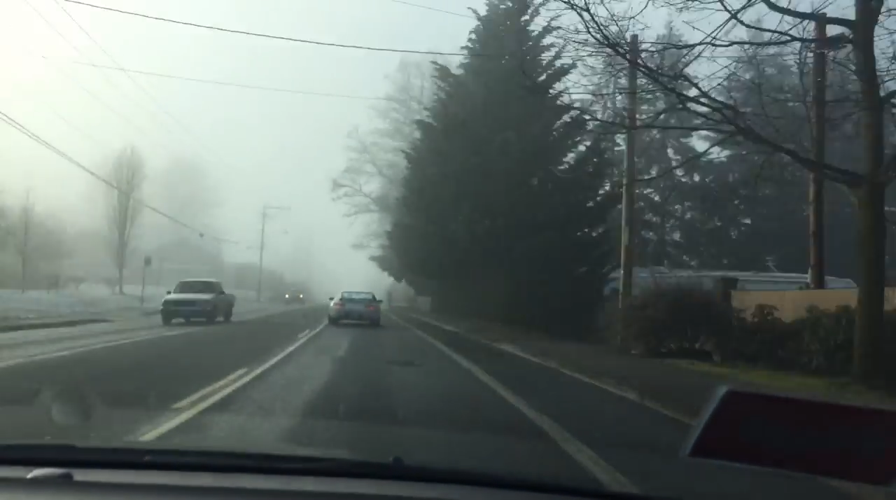car: (158, 277, 239, 324), (325, 290, 386, 326), (282, 287, 306, 305)
